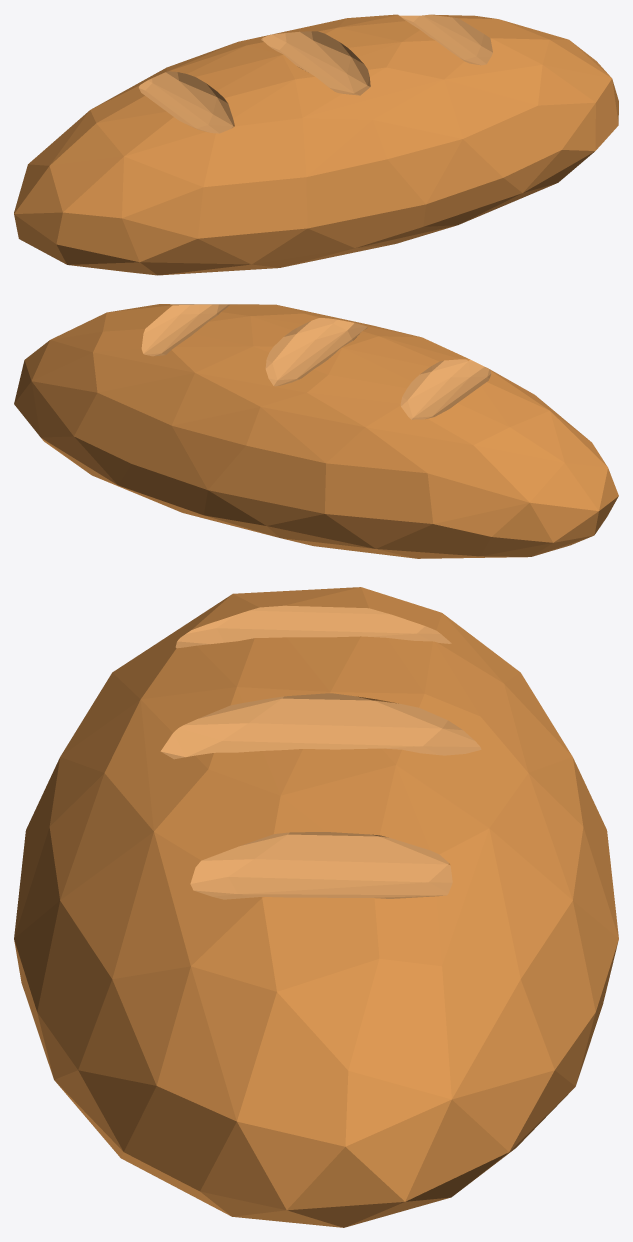
File: Bread_01.fbx
3 renders of one model, top to bottom at view 1: azimuth 30°, elevation 25°; view 2: azimuth 150°, elevation 25°; view 3: azimuth 270°, elevation 25°, orthographic. The views are drawn at different scales.
Parts seen in each view (by area): view 1: Bread_01; view 2: Bread_01; view 3: Bread_01.
Part boxes in pixels (x1=…): Bread_01: x1=14, y1=14, x2=618, y2=275; Bread_01: x1=14, y1=304, x2=618, y2=558; Bread_01: x1=14, y1=587, x2=618, y2=1227.
Bounding box in the file's own units: 34.86 × 9.81 × 16.5.
